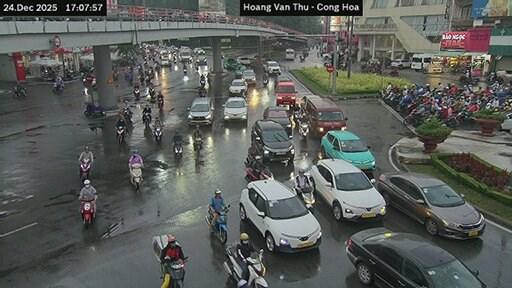motorbike: (246, 248, 268, 286), (224, 244, 243, 282), (160, 260, 185, 287), (214, 205, 229, 243), (80, 198, 95, 228), (403, 109, 426, 126), (300, 184, 313, 210), (246, 166, 272, 179), (83, 103, 105, 116), (131, 163, 141, 189), (80, 159, 90, 180), (173, 140, 182, 160), (297, 121, 307, 139), (153, 126, 162, 143), (115, 126, 124, 143), (192, 136, 201, 153), (204, 208, 213, 225), (293, 108, 301, 126), (51, 82, 63, 93), (13, 86, 25, 97), (122, 108, 131, 121), (141, 112, 150, 125), (147, 86, 154, 98), (134, 86, 140, 99), (157, 97, 163, 108), (198, 86, 205, 95), (390, 67, 397, 76), (144, 76, 150, 85), (262, 77, 268, 85), (199, 77, 204, 86), (300, 54, 304, 62), (182, 67, 185, 73)
